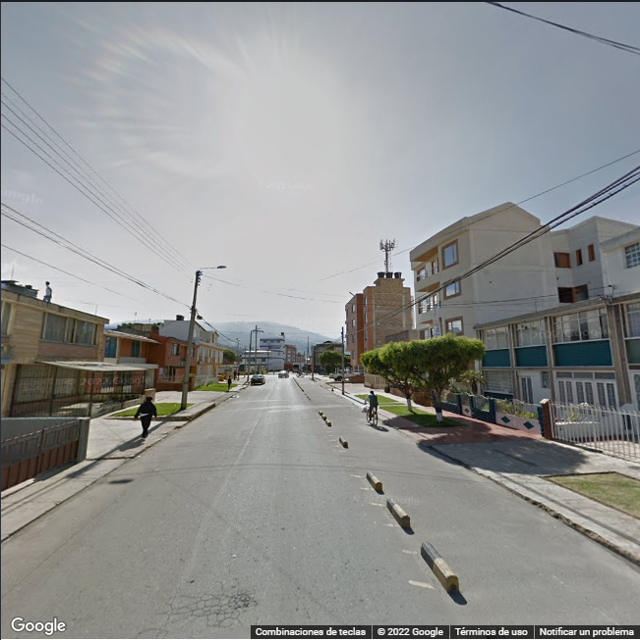D20: (134, 571, 255, 635)
